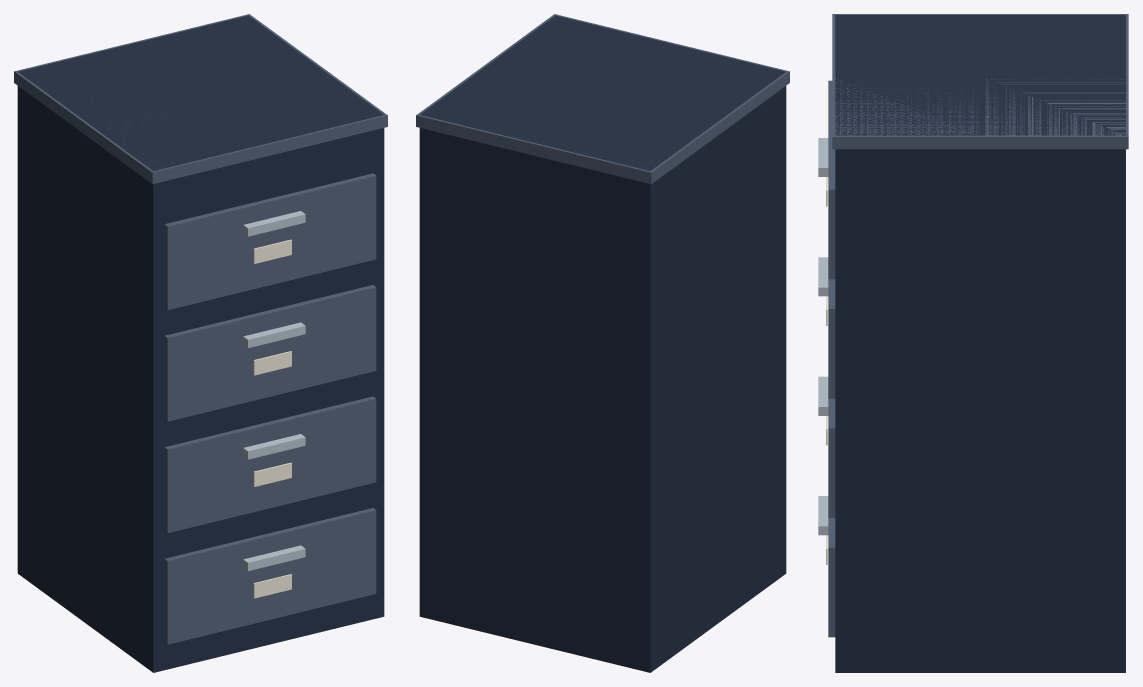
File: officeFilingCabinet.glb
The picture shows the model from 3 angles, left to right: view 1: azimuth 30°, elevation 25°; view 2: azimuth 150°, elevation 25°; view 3: azimuth 270°, elevation 25°; orthographic projection. The views are drawn at different scales.
Bounding box in the file's own units: 0.53 × 1.08 × 0.566.
